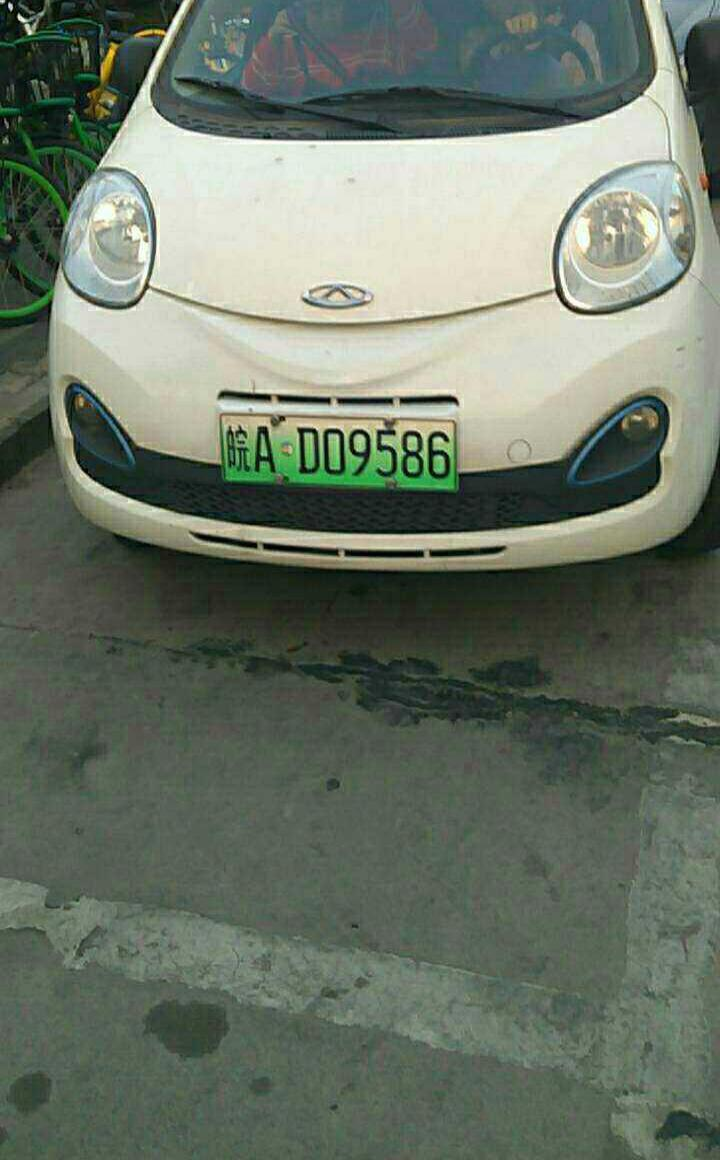car_green: (213, 406, 468, 500)
